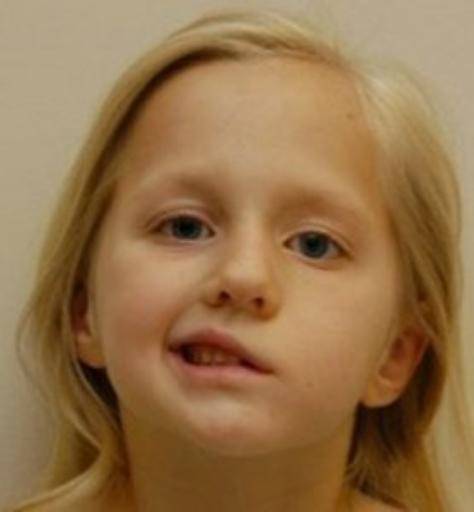left_eye: (279, 231, 350, 267)
left_lip_corner: (262, 362, 285, 386)
right_eye: (145, 213, 220, 245)
right_lip_corner: (162, 339, 183, 364)
